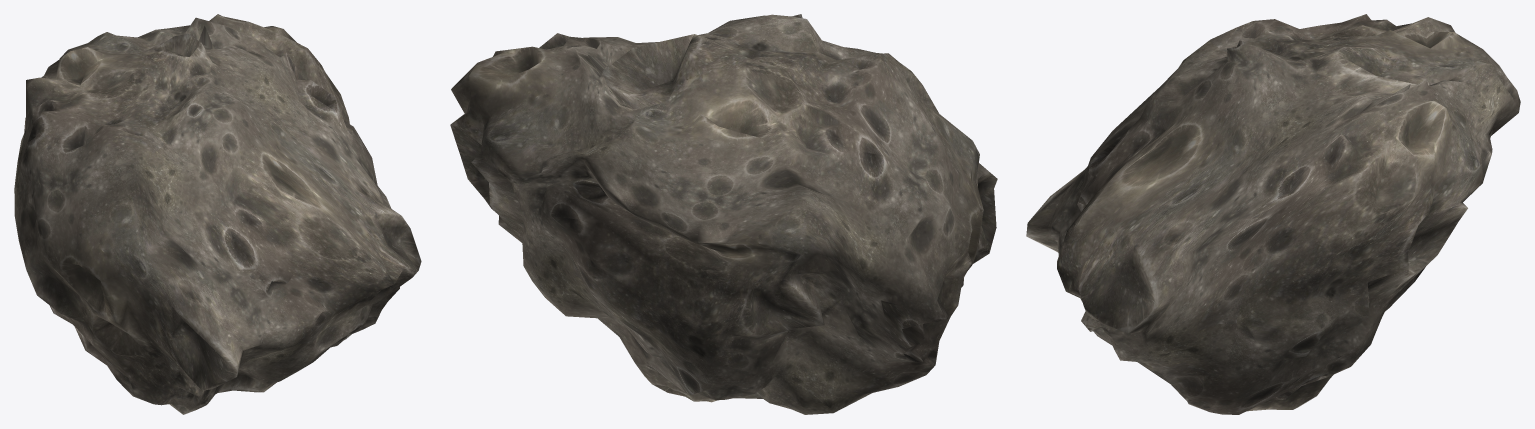
File: Asteroid_03_L0.FBX
3 renders of one model, left to right at view 1: azimuth 30°, elevation 25°; view 2: azimuth 150°, elevation 25°; view 3: azimuth 270°, elevation 25°, orthographic. The views are drawn at different scales.
Visible parts, largest first — view 1: Asteroid; view 2: Asteroid; view 3: Asteroid.
Boxes of the visible parts, x1=… form: Asteroid: x1=14, y1=14, x2=421, y2=414; Asteroid: x1=450, y1=14, x2=997, y2=414; Asteroid: x1=1026, y1=14, x2=1520, y2=414.
Bounding box in the file's own units: 2.72 × 2.35 × 3.05.
